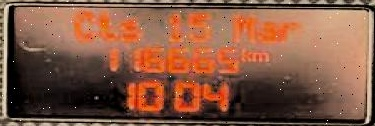0: (135, 80, 162, 109), (172, 80, 198, 110)
1: (167, 12, 182, 42), (125, 81, 135, 109), (130, 46, 140, 71), (107, 46, 117, 71)
4: (200, 82, 227, 112)
5: (185, 13, 210, 42), (214, 47, 239, 73)
6: (190, 47, 214, 73), (165, 47, 189, 73), (140, 45, 164, 71)
X: (230, 13, 254, 42), (95, 9, 117, 40), (72, 10, 93, 40), (117, 17, 140, 40), (277, 20, 298, 41), (255, 22, 277, 42), (250, 52, 269, 62), (239, 46, 250, 60)
